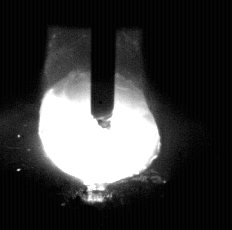arame: (92, 0, 115, 130)
poca: (37, 0, 162, 230)
